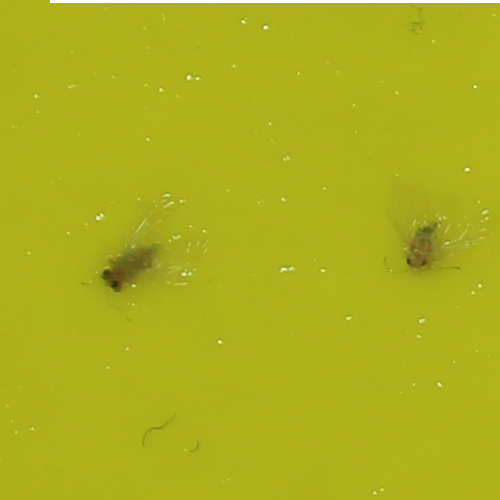Glycaspis: (101, 241, 163, 291), (402, 220, 443, 269)
